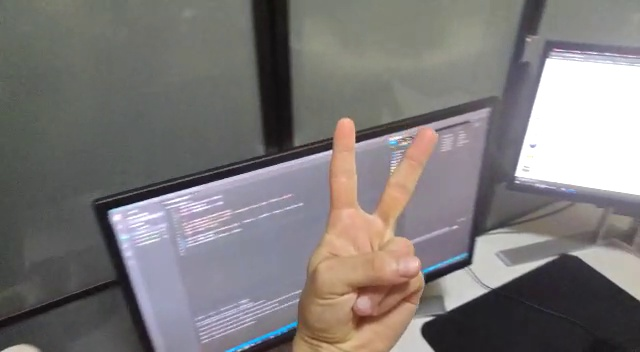Peace: (288, 115, 449, 350)
